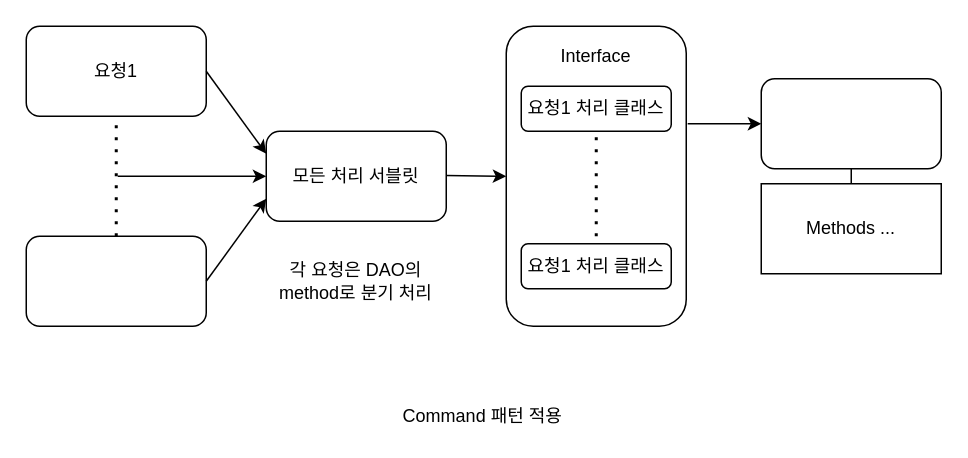
This 968x458 diagram has some shape labels left out. Here are the shapes that lost their labels. From the top down, the centre of each, then its label:
At (850,123): "DAO".
At (115,280): "요청N".
